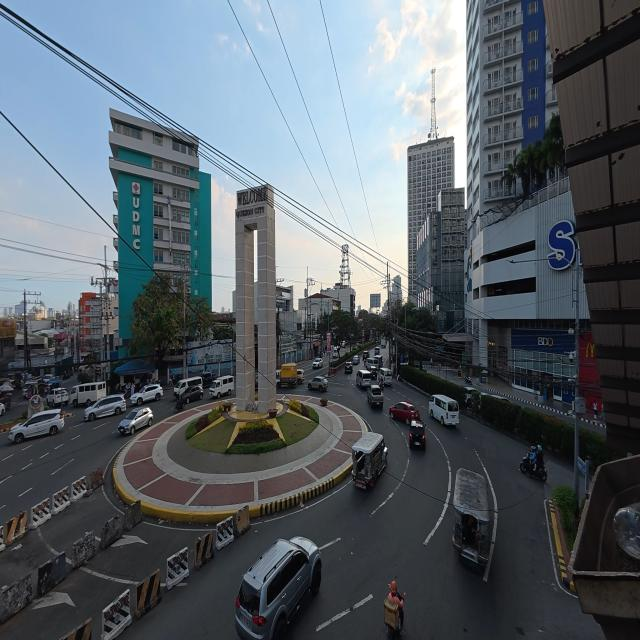Jeepneys: (453, 469, 489, 566), (352, 433, 387, 488), (374, 354, 384, 370)
car: (235, 537, 321, 639), (9, 410, 64, 443), (84, 395, 126, 420), (119, 407, 153, 435), (130, 384, 163, 405), (390, 402, 420, 424), (409, 419, 426, 450), (47, 388, 69, 407), (182, 385, 203, 403), (368, 385, 383, 409), (308, 376, 328, 391), (23, 380, 40, 397), (464, 387, 477, 407), (202, 372, 216, 388), (61, 370, 73, 380), (313, 358, 323, 369), (345, 362, 352, 373), (43, 375, 53, 382), (363, 351, 369, 362), (0, 403, 5, 416), (352, 355, 359, 364), (255, 373, 258, 391), (381, 340, 386, 348), (375, 347, 380, 355), (341, 341, 345, 347)
motorcycle: (520, 454, 547, 482), (385, 611, 401, 639), (174, 395, 185, 413), (0, 396, 11, 409), (465, 375, 472, 384)
trucks: (280, 364, 304, 386)
vans: (429, 395, 459, 425), (70, 382, 106, 406), (174, 376, 202, 398), (209, 376, 234, 398), (357, 370, 371, 388), (379, 368, 392, 385), (366, 358, 377, 370), (381, 339, 386, 349)
